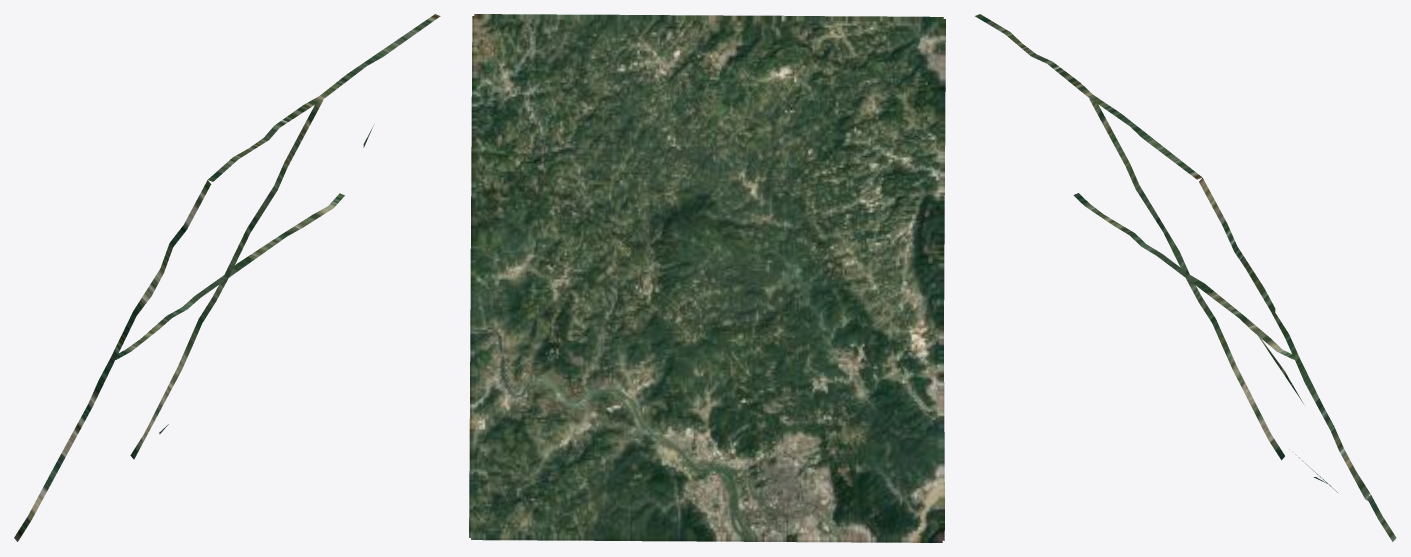
3 renders of one model, left to right at view 1: azimuth 30°, elevation 25°; view 2: azimuth 150°, elevation 25°; view 3: azimuth 270°, elevation 25°, orthographic. The views are drawn at different scales.
Size of the model in its own units: 79200 by 71234 by 66039.
Materials: 1 (1 with a texture image).
